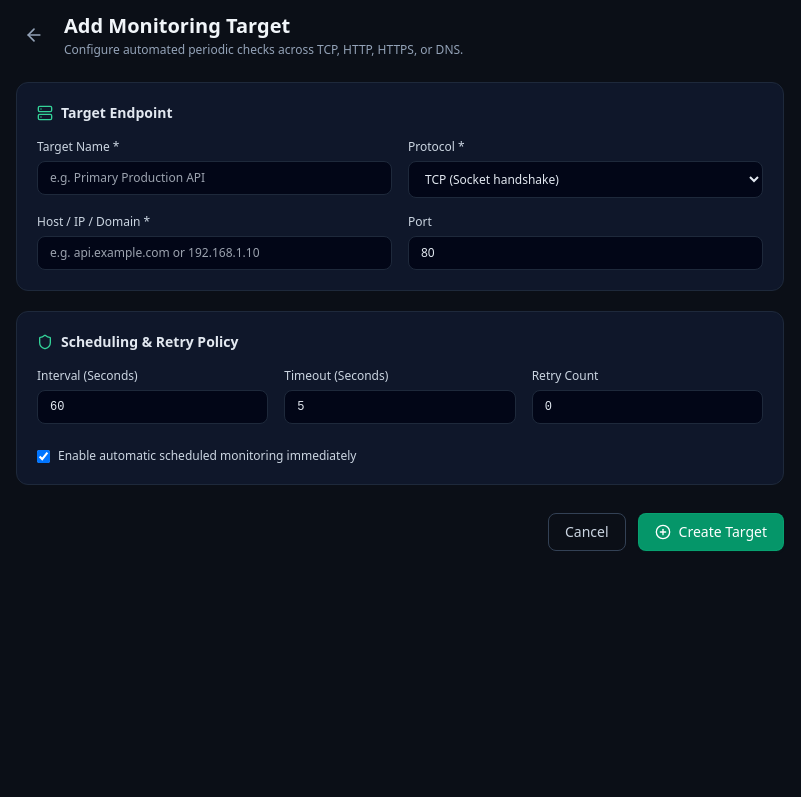
TargetCreatePage › renders target creation form and toggles protocol fields
Expected: the heading "Add Monitoring Target" is shown, x1=64 y1=12 x2=290 y2=39
Expected: the field labelled "Target Name *" is shown, x1=37 y1=161 x2=392 y2=195
Step 1. Select "HTTP (Web probe)" in the dropdown labelled "Protocol *" → (586, 180), box x1=408 y1=161 x2=763 y2=198
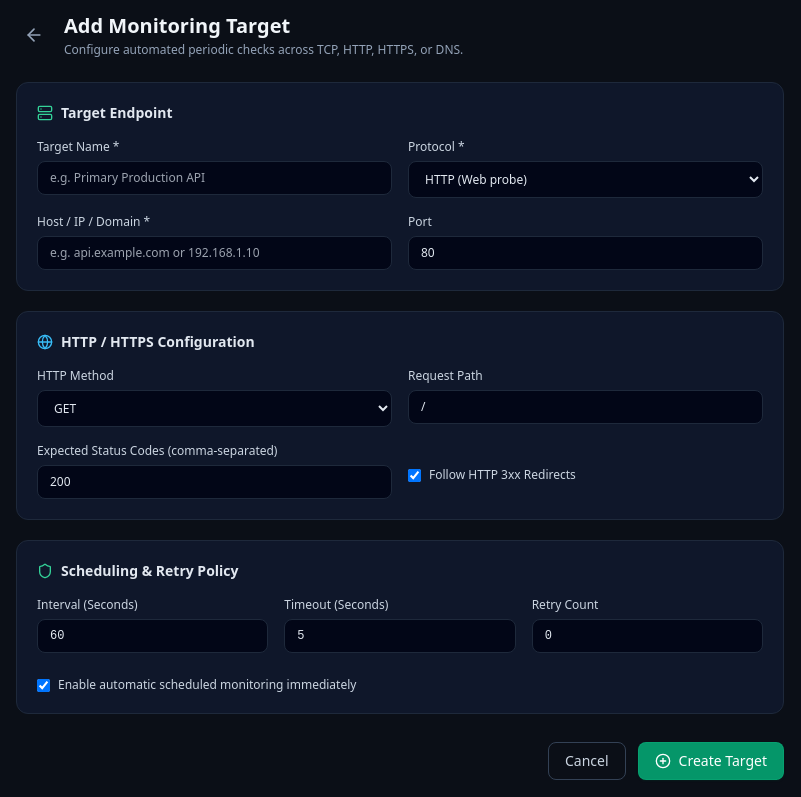
Result: the text "HTTP / HTTPS Configuration" is shown at x1=61 y1=332 x2=255 y2=352
Result: the dropdown labelled "HTTP Method" is shown at x1=37 y1=390 x2=392 y2=427
Result: the field labelled "Request Path" is shown at x1=408 y1=390 x2=763 y2=424
Step 2. Select "DNS (Domain resolution)" in the dropdown labelled "Protocol *" → (586, 180), box x1=408 y1=161 x2=763 y2=198
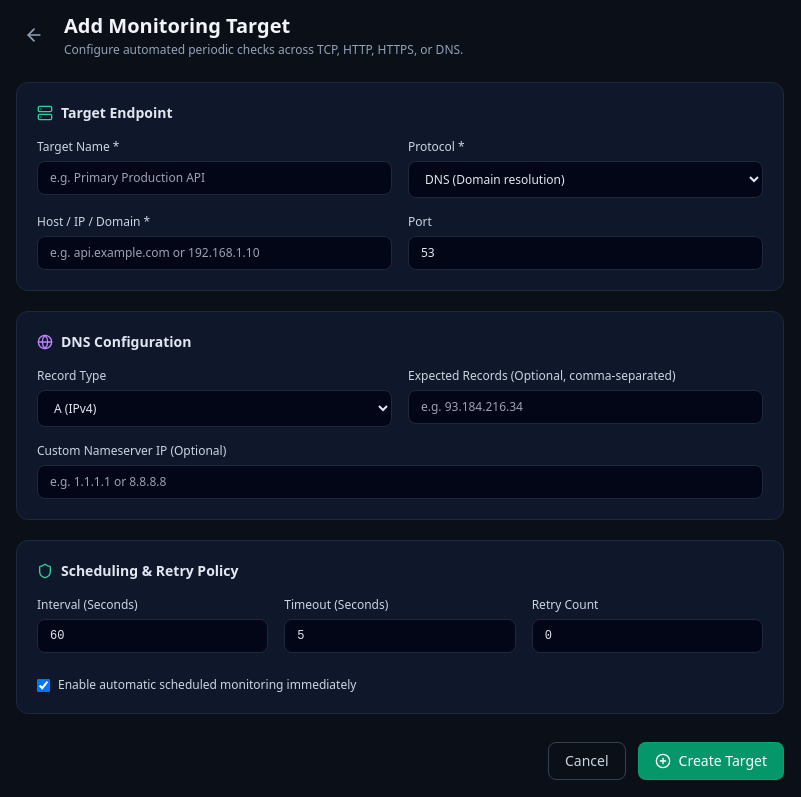
Result: the text "DNS Configuration" is shown at x1=61 y1=332 x2=191 y2=352
Result: the dropdown labelled "Record Type" is shown at x1=37 y1=390 x2=392 y2=427
